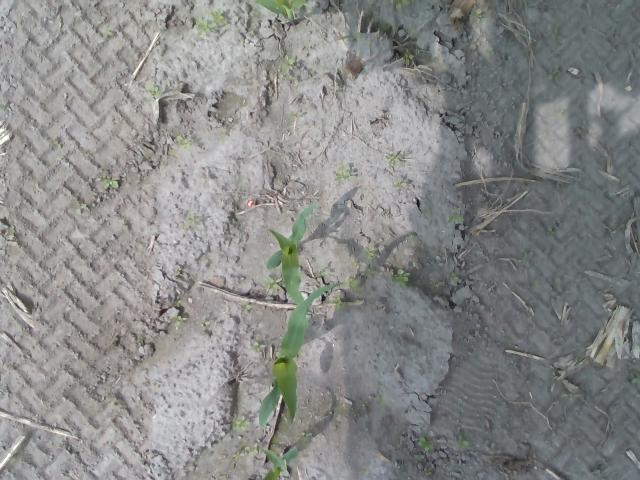Maize: (256, 282, 338, 428), (263, 202, 317, 306), (252, 0, 308, 26), (260, 444, 298, 480)
Weeds: (195, 9, 224, 32), (231, 442, 258, 463), (231, 414, 252, 432), (343, 275, 363, 293), (394, 266, 411, 284), (262, 277, 282, 291), (454, 433, 470, 449), (417, 436, 432, 452), (102, 177, 119, 190), (282, 54, 294, 72), (336, 169, 352, 182), (252, 339, 267, 352), (175, 136, 191, 148), (334, 295, 346, 310), (394, 0, 411, 10), (362, 246, 376, 258), (404, 52, 416, 66), (392, 180, 407, 191), (145, 82, 159, 92), (447, 215, 464, 223), (428, 279, 440, 290), (445, 272, 458, 282), (630, 372, 640, 385), (300, 432, 314, 441), (386, 154, 401, 162), (422, 466, 434, 476), (186, 214, 198, 224), (173, 316, 183, 326), (102, 27, 112, 37), (174, 296, 182, 306), (291, 110, 299, 120)
